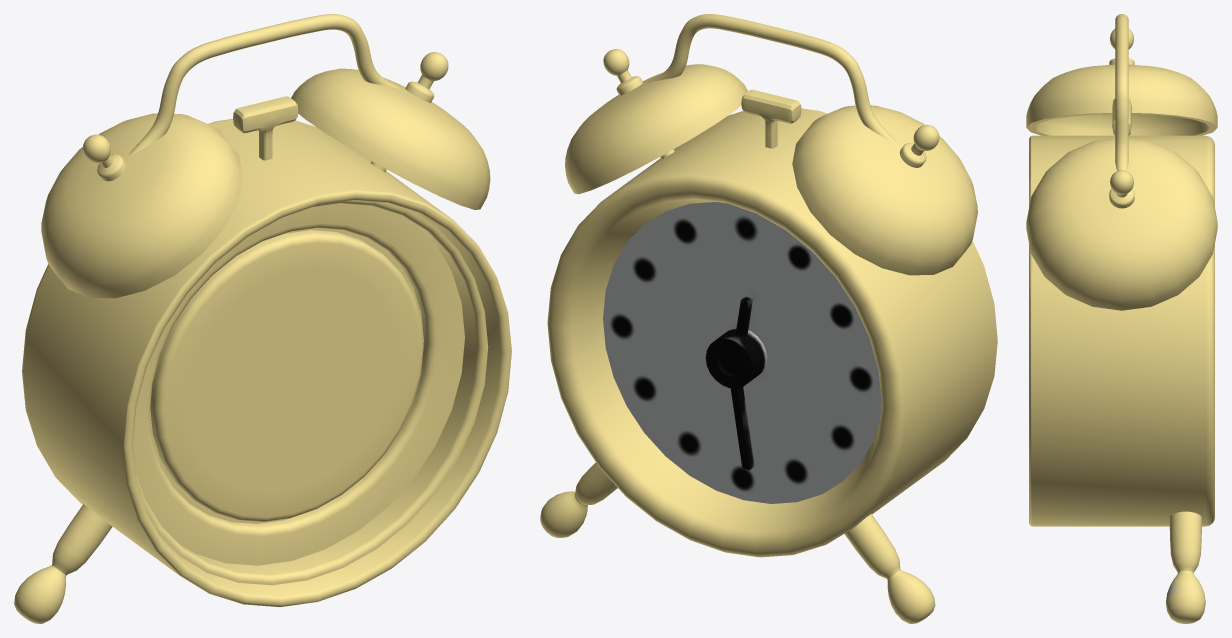
Rendered from AlarmClockComplete.fbx.
3 renders of one model, left to right at view 1: azimuth 30°, elevation 25°; view 2: azimuth 150°, elevation 25°; view 3: azimuth 270°, elevation 25°, orthographic. The views are drawn at different scales.
Parts seen in each view (by area): view 1: AlarmClock; view 2: AlarmClock, AlarmClockFace; view 3: AlarmClock.
Boxes of the visible parts, x1,y1,x2,y2 form: AlarmClock: [14, 14, 511, 623]; AlarmClock: [540, 14, 997, 623]; AlarmClockFace: [603, 202, 881, 503]; AlarmClock: [1026, 14, 1217, 623].
Bounding box in the file's own units: 55.27 × 71.5 × 24.8.
Materials: 2 (2 with a texture image).
